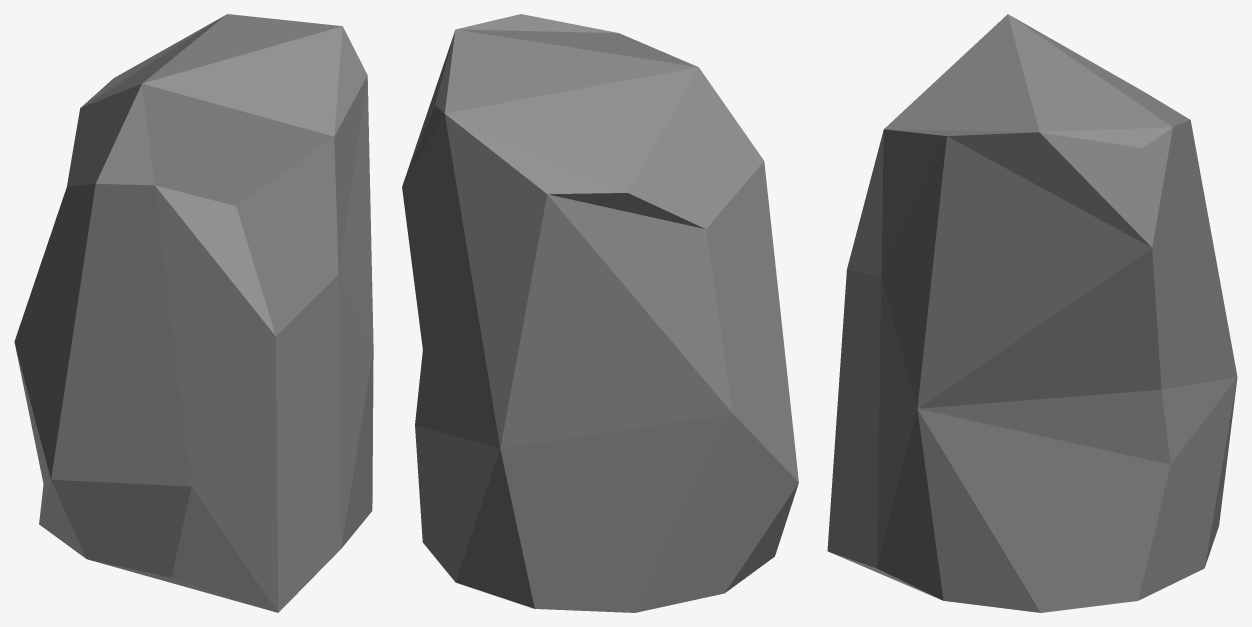
The model's file is Stalagmite 4.fbx.
3 renders of one model, left to right at view 1: azimuth 30°, elevation 25°; view 2: azimuth 150°, elevation 25°; view 3: azimuth 270°, elevation 25°, orthographic. The views are drawn at different scales.
Parts seen in each view (by area): view 1: Stalagmite_4; view 2: Stalagmite_4; view 3: Stalagmite_4.
Part boxes in pixels (x1,y1,x2,y2): Stalagmite_4: [14, 14, 373, 612]; Stalagmite_4: [402, 14, 798, 612]; Stalagmite_4: [827, 14, 1237, 612].
Size of the model in its own units: 155 by 225 by 164.
1 material, 1 textured.
